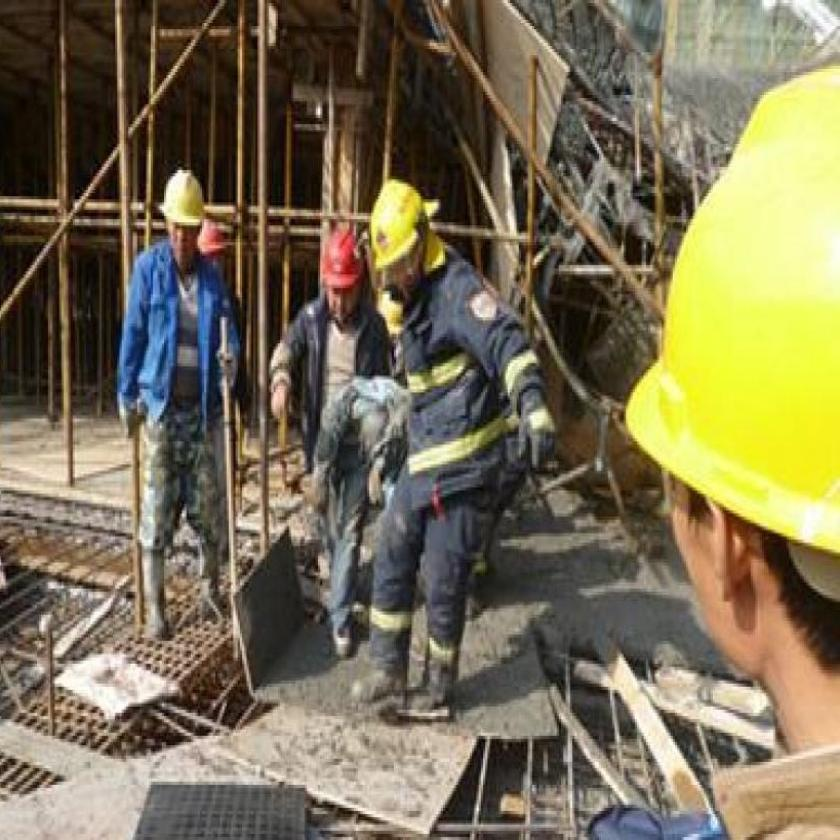Con_casco: (369, 175, 433, 286), (149, 165, 210, 275), (318, 222, 364, 322)
